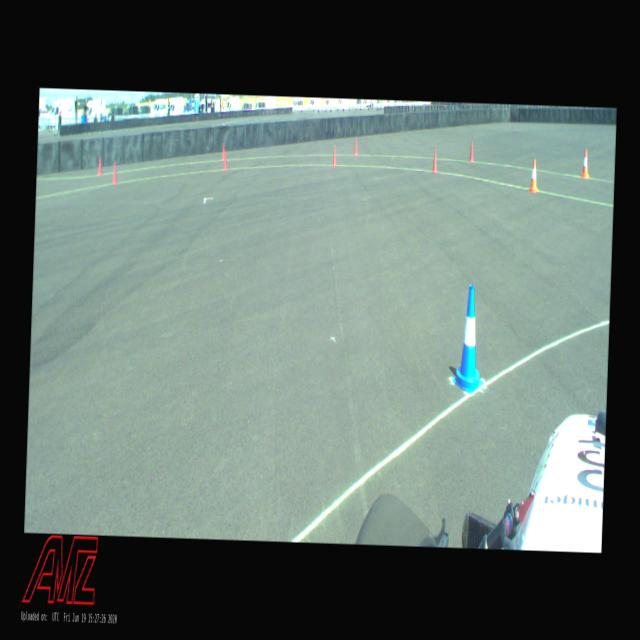blue_cone: (452, 284, 486, 394)
orange_cone: (528, 159, 540, 193), (580, 148, 590, 178)
unknown_cone: (111, 160, 118, 184), (432, 148, 438, 174), (222, 148, 228, 170), (332, 145, 338, 166), (469, 142, 474, 162), (353, 136, 358, 156), (98, 155, 102, 175), (221, 142, 225, 160)
